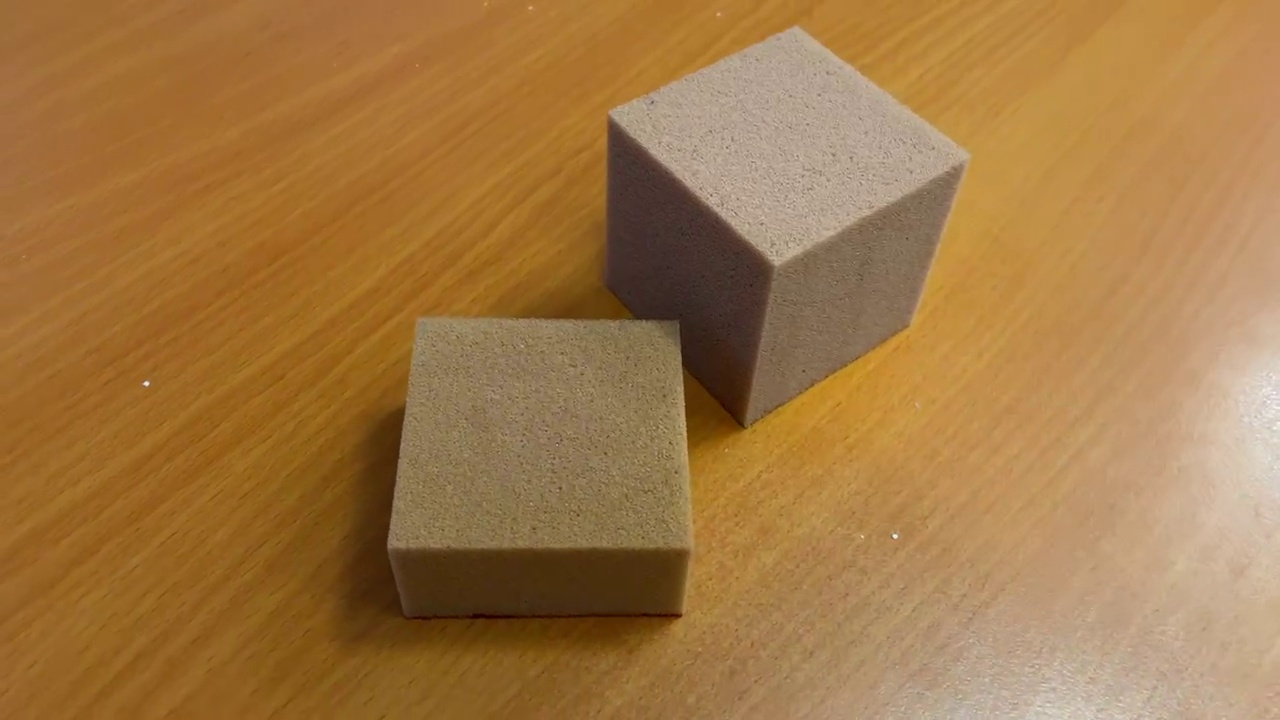Cube: (593, 19, 974, 434)
Cube_short: (383, 303, 694, 622)
